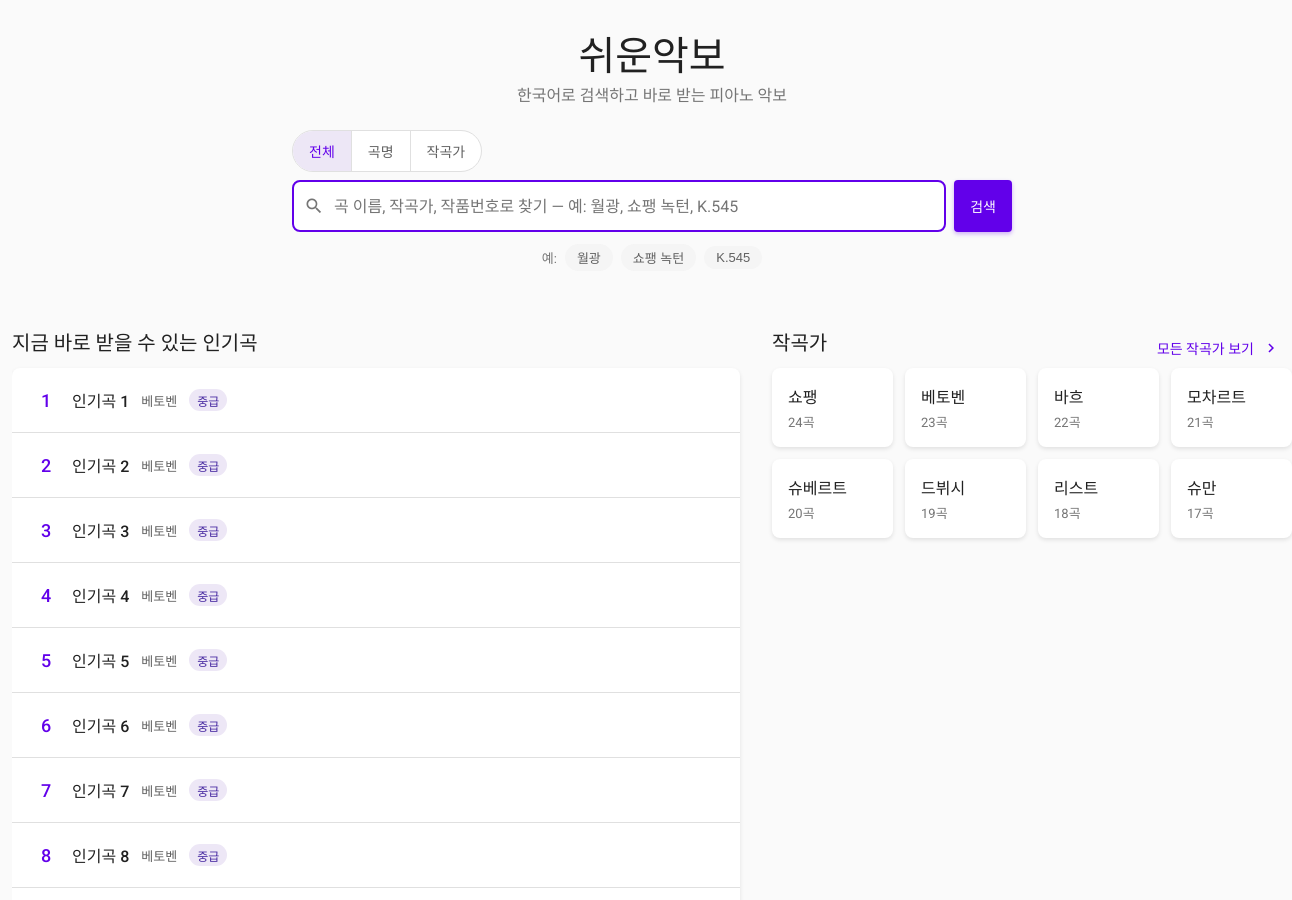
it: 홈 — 검색 기준 세그먼트 › 기준 '작곡가' 를 고르면 자리 문구가 바뀐다 (08 §4-3)
Click the radio button labelled "작곡가" at (445, 151), box [410, 131, 481, 171]
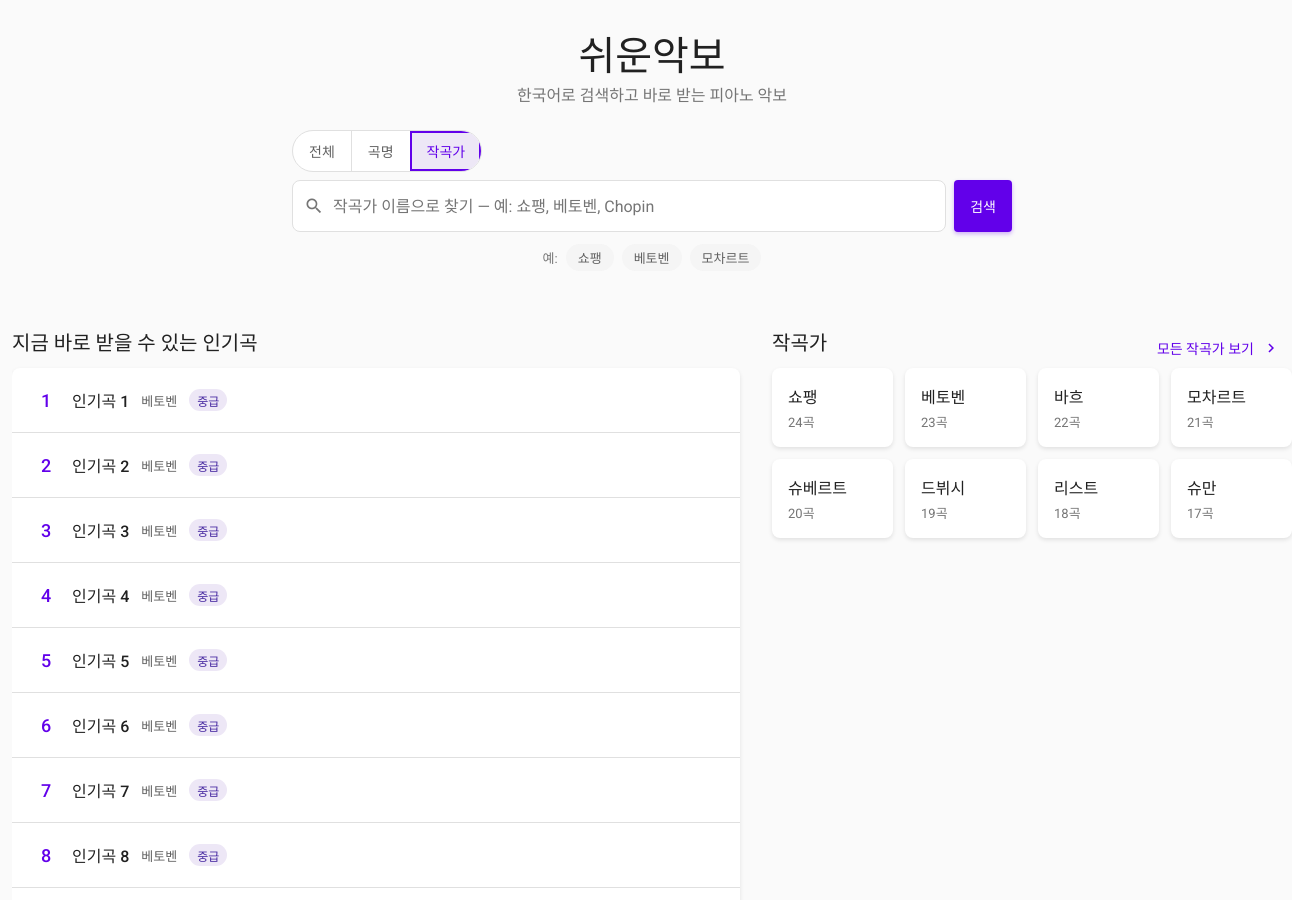
Expected: the field with placeholder "작곡가 이름으로 찾기 — 예: 쇼팽, 베토벤, Chopin" is shown, [292, 180, 946, 232]
